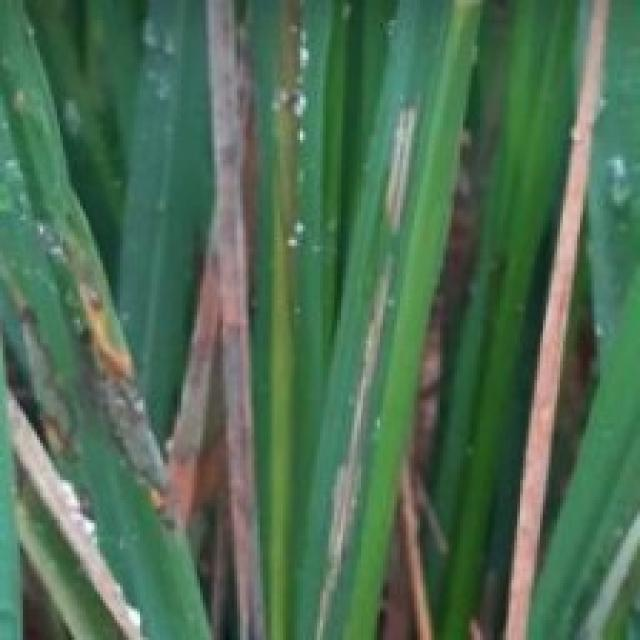Bacterial_Blight: (498, 0, 612, 640), (155, 0, 285, 534), (194, 0, 282, 640), (0, 385, 157, 640), (307, 260, 407, 640), (379, 97, 427, 244)
Brown_Spot: (55, 238, 144, 379), (20, 296, 86, 458)
